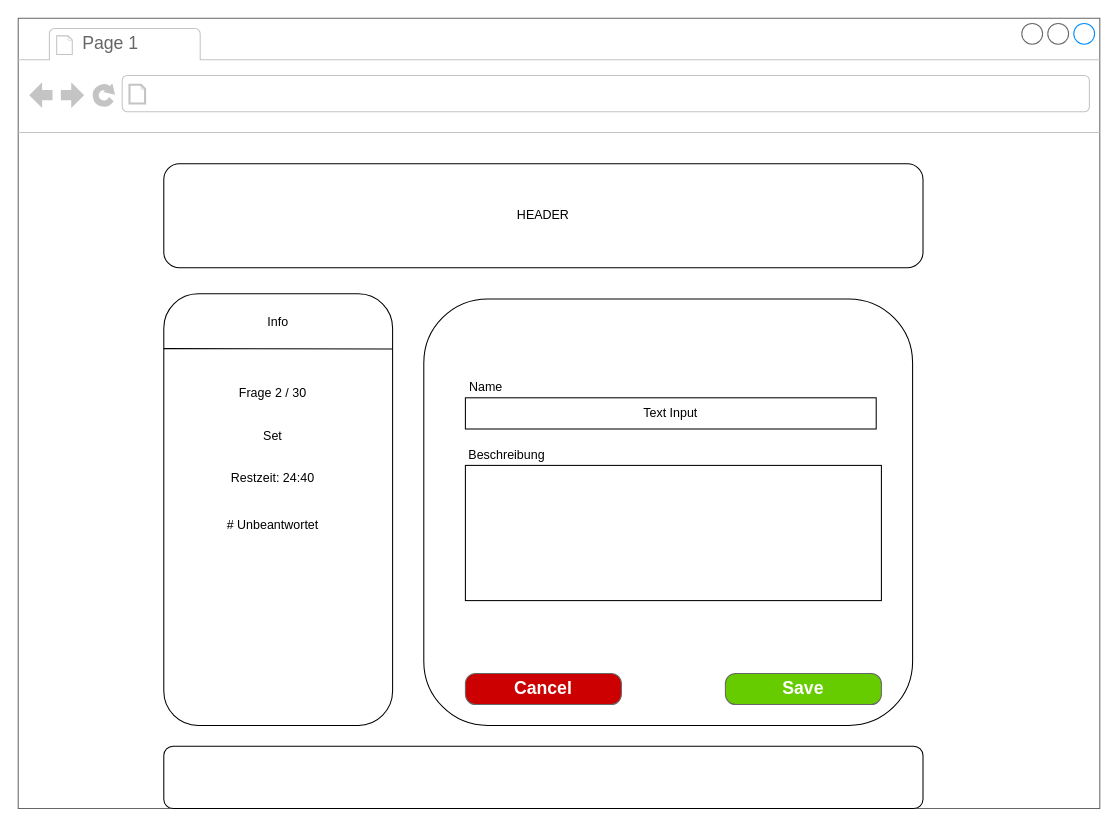
The diagram is 1118 pixels wide and 827 high, and some of its shapes have lost their labels. The centre of each missing label's shape, as x and y in pixels:
FOOTER: (x=543, y=777)
https://www.draw.io: (x=282, y=94)
Textarea: (x=672, y=532)
